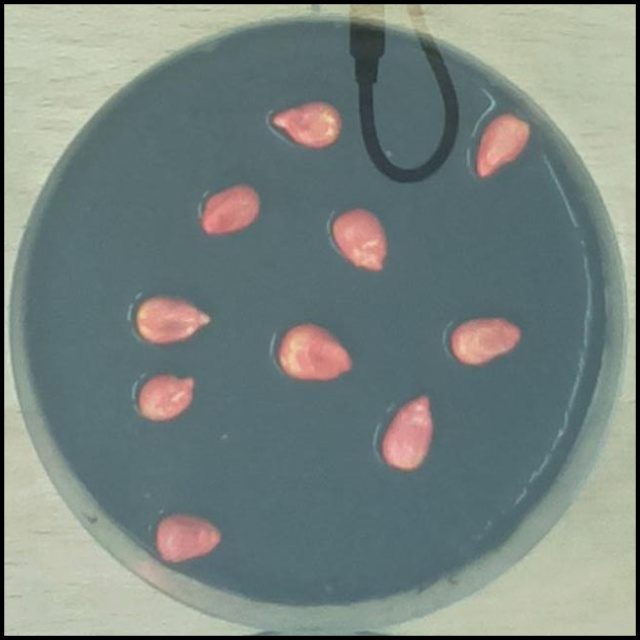Zea mays: (271, 316, 361, 387), (376, 388, 441, 475), (130, 287, 218, 350), (469, 105, 537, 184), (325, 201, 394, 277), (262, 95, 348, 155), (444, 311, 527, 371), (150, 506, 228, 567), (195, 176, 267, 241), (132, 366, 201, 426)
